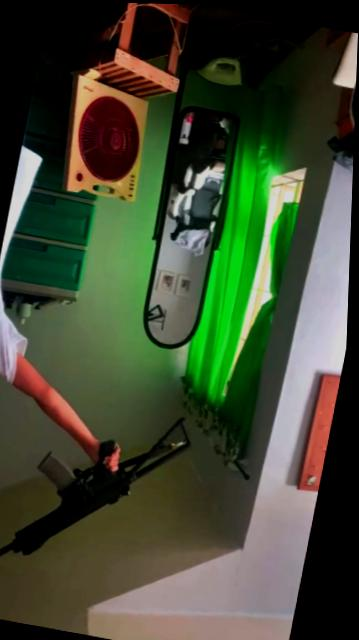rifle: (0, 378, 221, 616)
